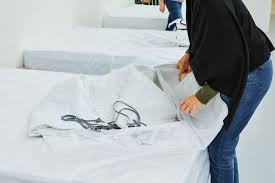bed-matress: (1, 70, 233, 183), (20, 25, 201, 82), (102, 3, 193, 28)
